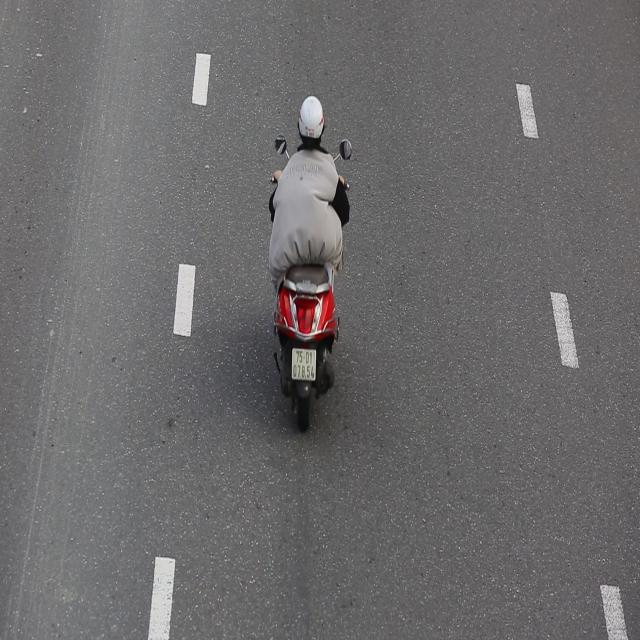motorbike: (264, 88, 353, 445)
